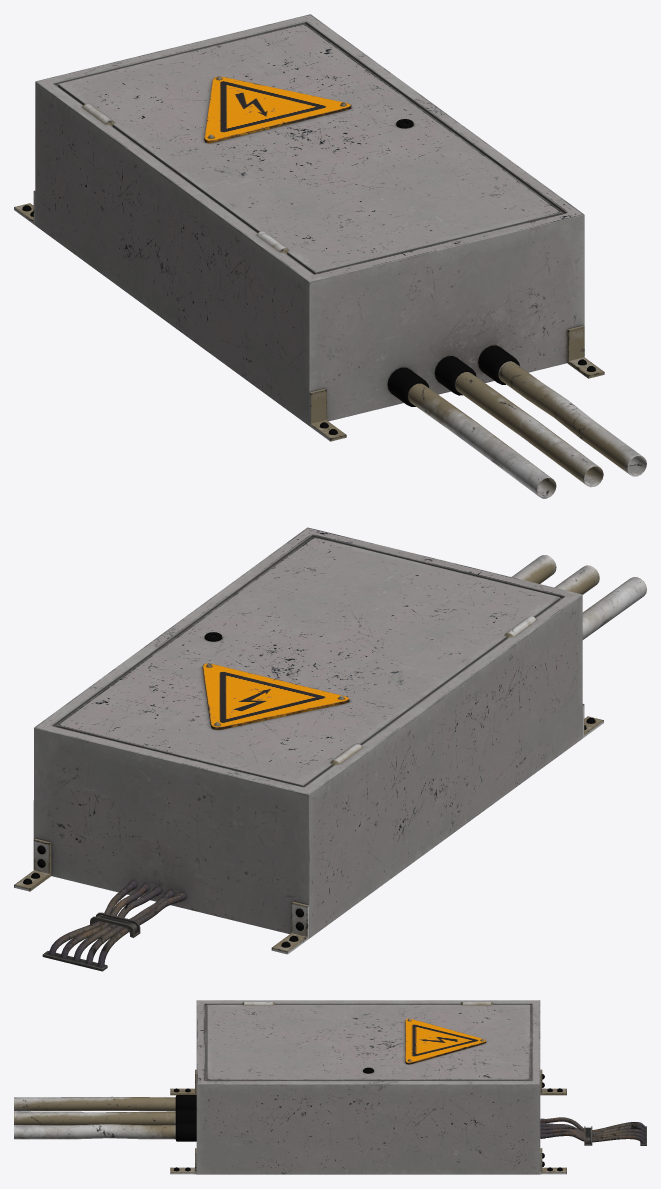
File: main power secondary.fbx
The picture shows the model from 3 angles, top to bottom: view 1: azimuth 30°, elevation 25°; view 2: azimuth 150°, elevation 25°; view 3: azimuth 270°, elevation 25°; orthographic projection. The views are drawn at different scales.
Visible parts, largest first — view 1: Electrical control panel; view 2: Electrical control panel; view 3: Electrical control panel.
Boxes of the visible parts, left/top/right/bottom form: Electrical control panel: left=14, top=14, right=646, bottom=498; Electrical control panel: left=14, top=527, right=646, bottom=971; Electrical control panel: left=14, top=1000, right=646, bottom=1174.
Size of the model in its own units: 0.6 by 0.3137 by 1.9.
1 material, 1 textured.
